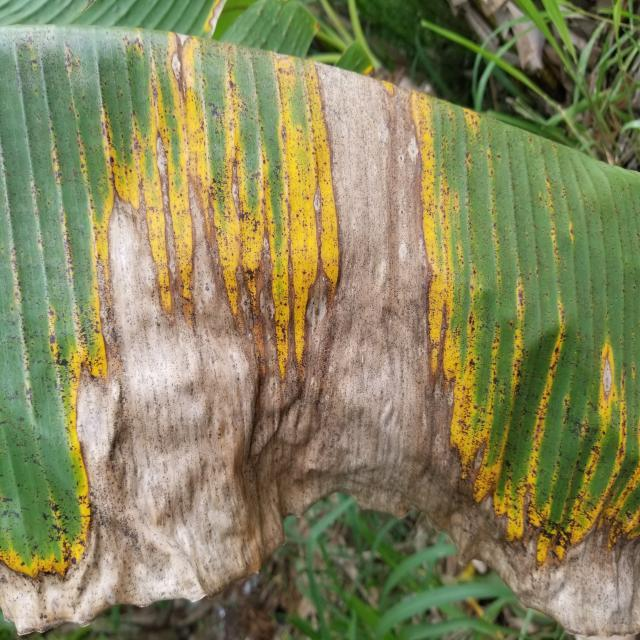Early_rust: (0, 4, 640, 624)
